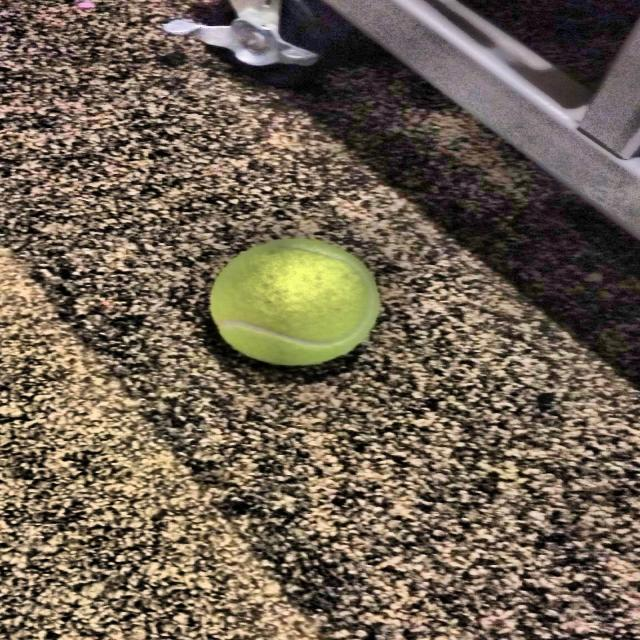tennis-ball: (203, 231, 383, 375)
